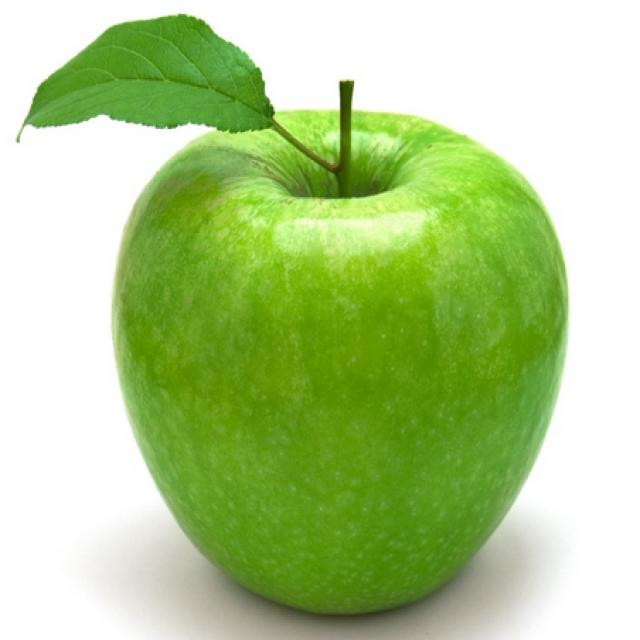Apple: (96, 103, 576, 612)
